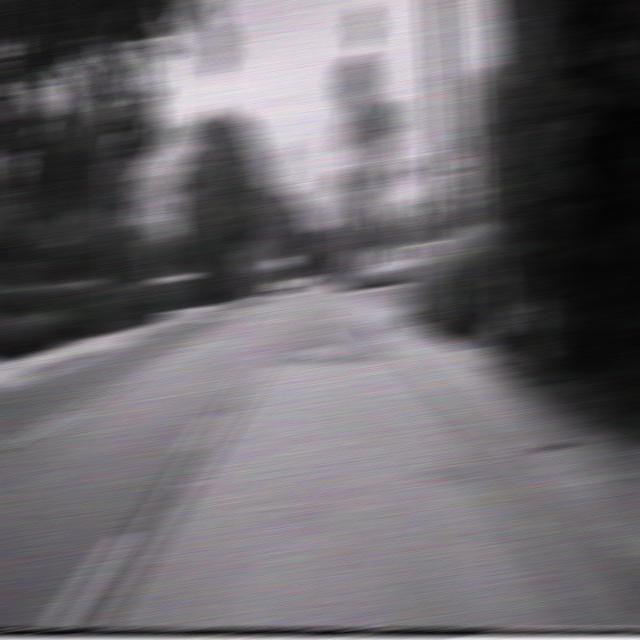pedestrianCrossing: (389, 196, 417, 227)
